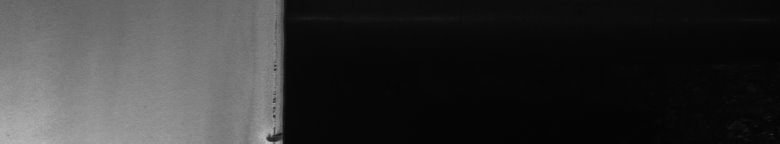hb: (260, 127, 272, 136)
